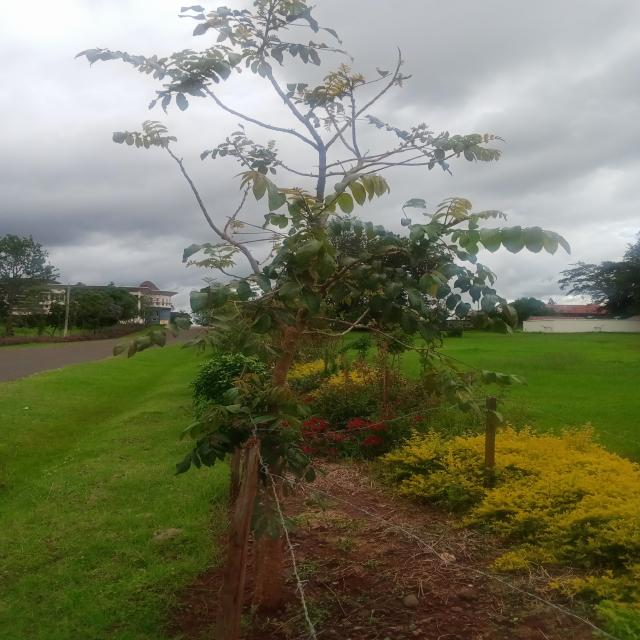Polyscias Kikuyensis: (42, 0, 583, 616)
